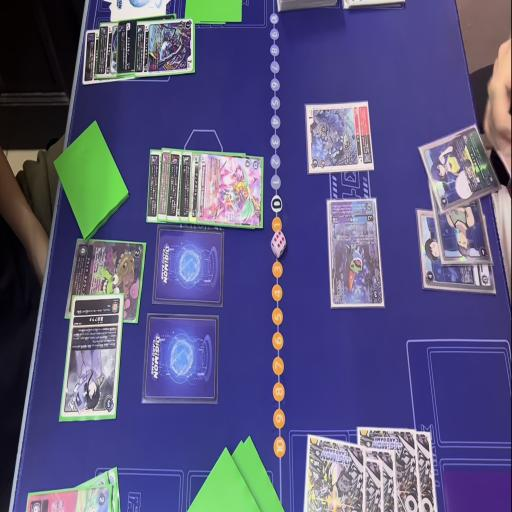card: (59, 292, 125, 422), (64, 236, 150, 327), (418, 124, 500, 216), (412, 205, 492, 294), (328, 190, 384, 310), (198, 148, 268, 228), (435, 182, 494, 268), (304, 102, 372, 174), (133, 17, 200, 82), (24, 481, 112, 512), (166, 144, 190, 227), (144, 150, 170, 224), (96, 20, 125, 82), (159, 145, 181, 222), (178, 146, 200, 222), (188, 149, 207, 226), (116, 18, 139, 80), (81, 25, 103, 84)
